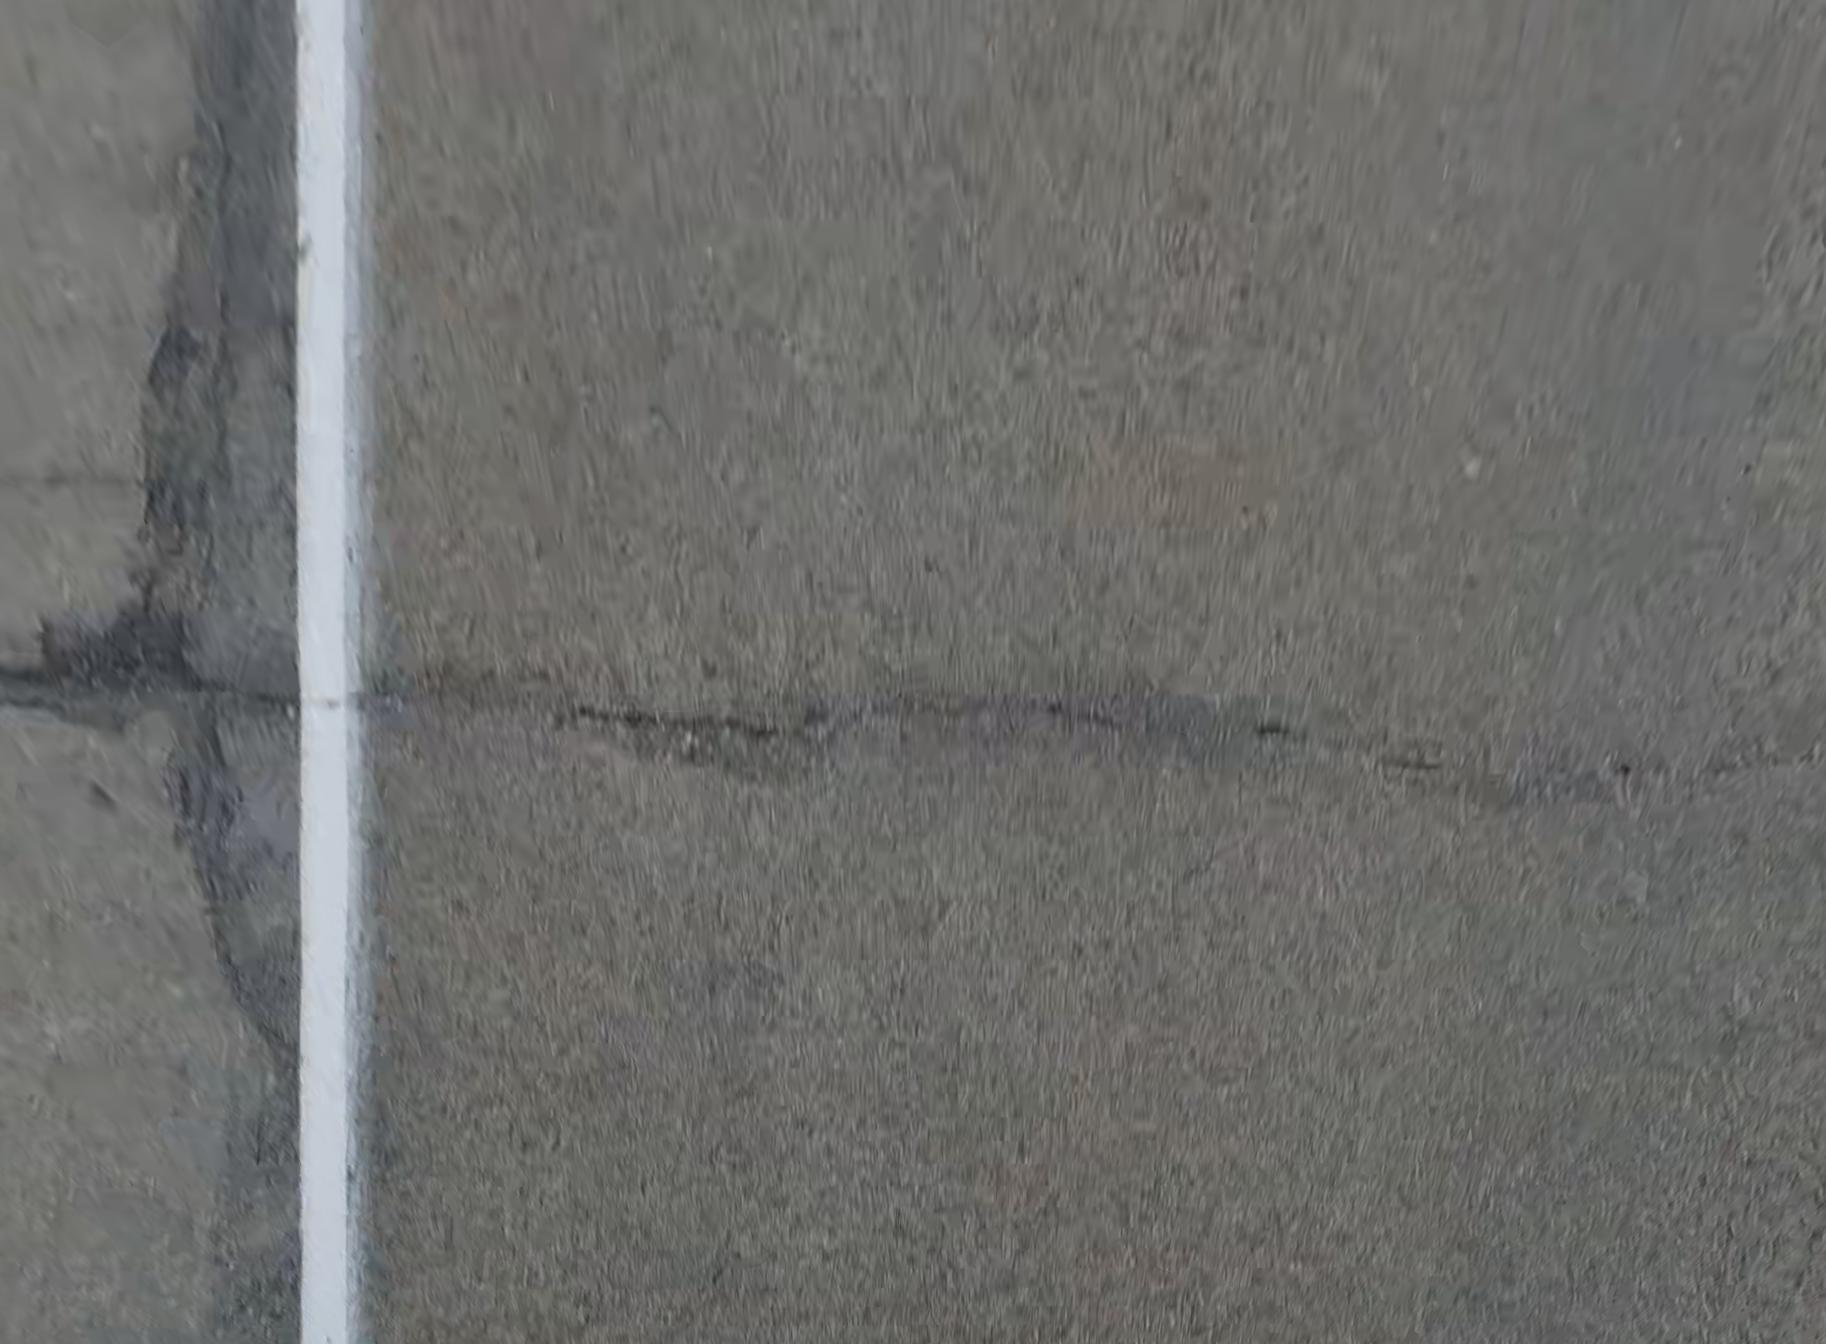pothole: (0, 612, 197, 726)
